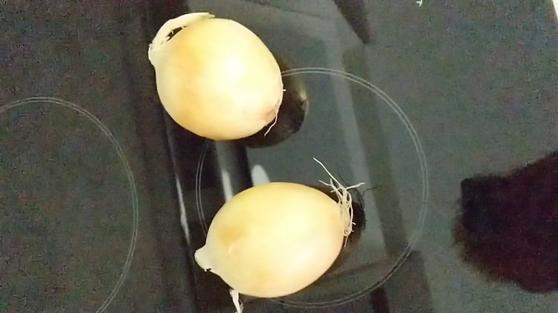onion: (192, 180, 357, 296), (146, 10, 284, 143)
